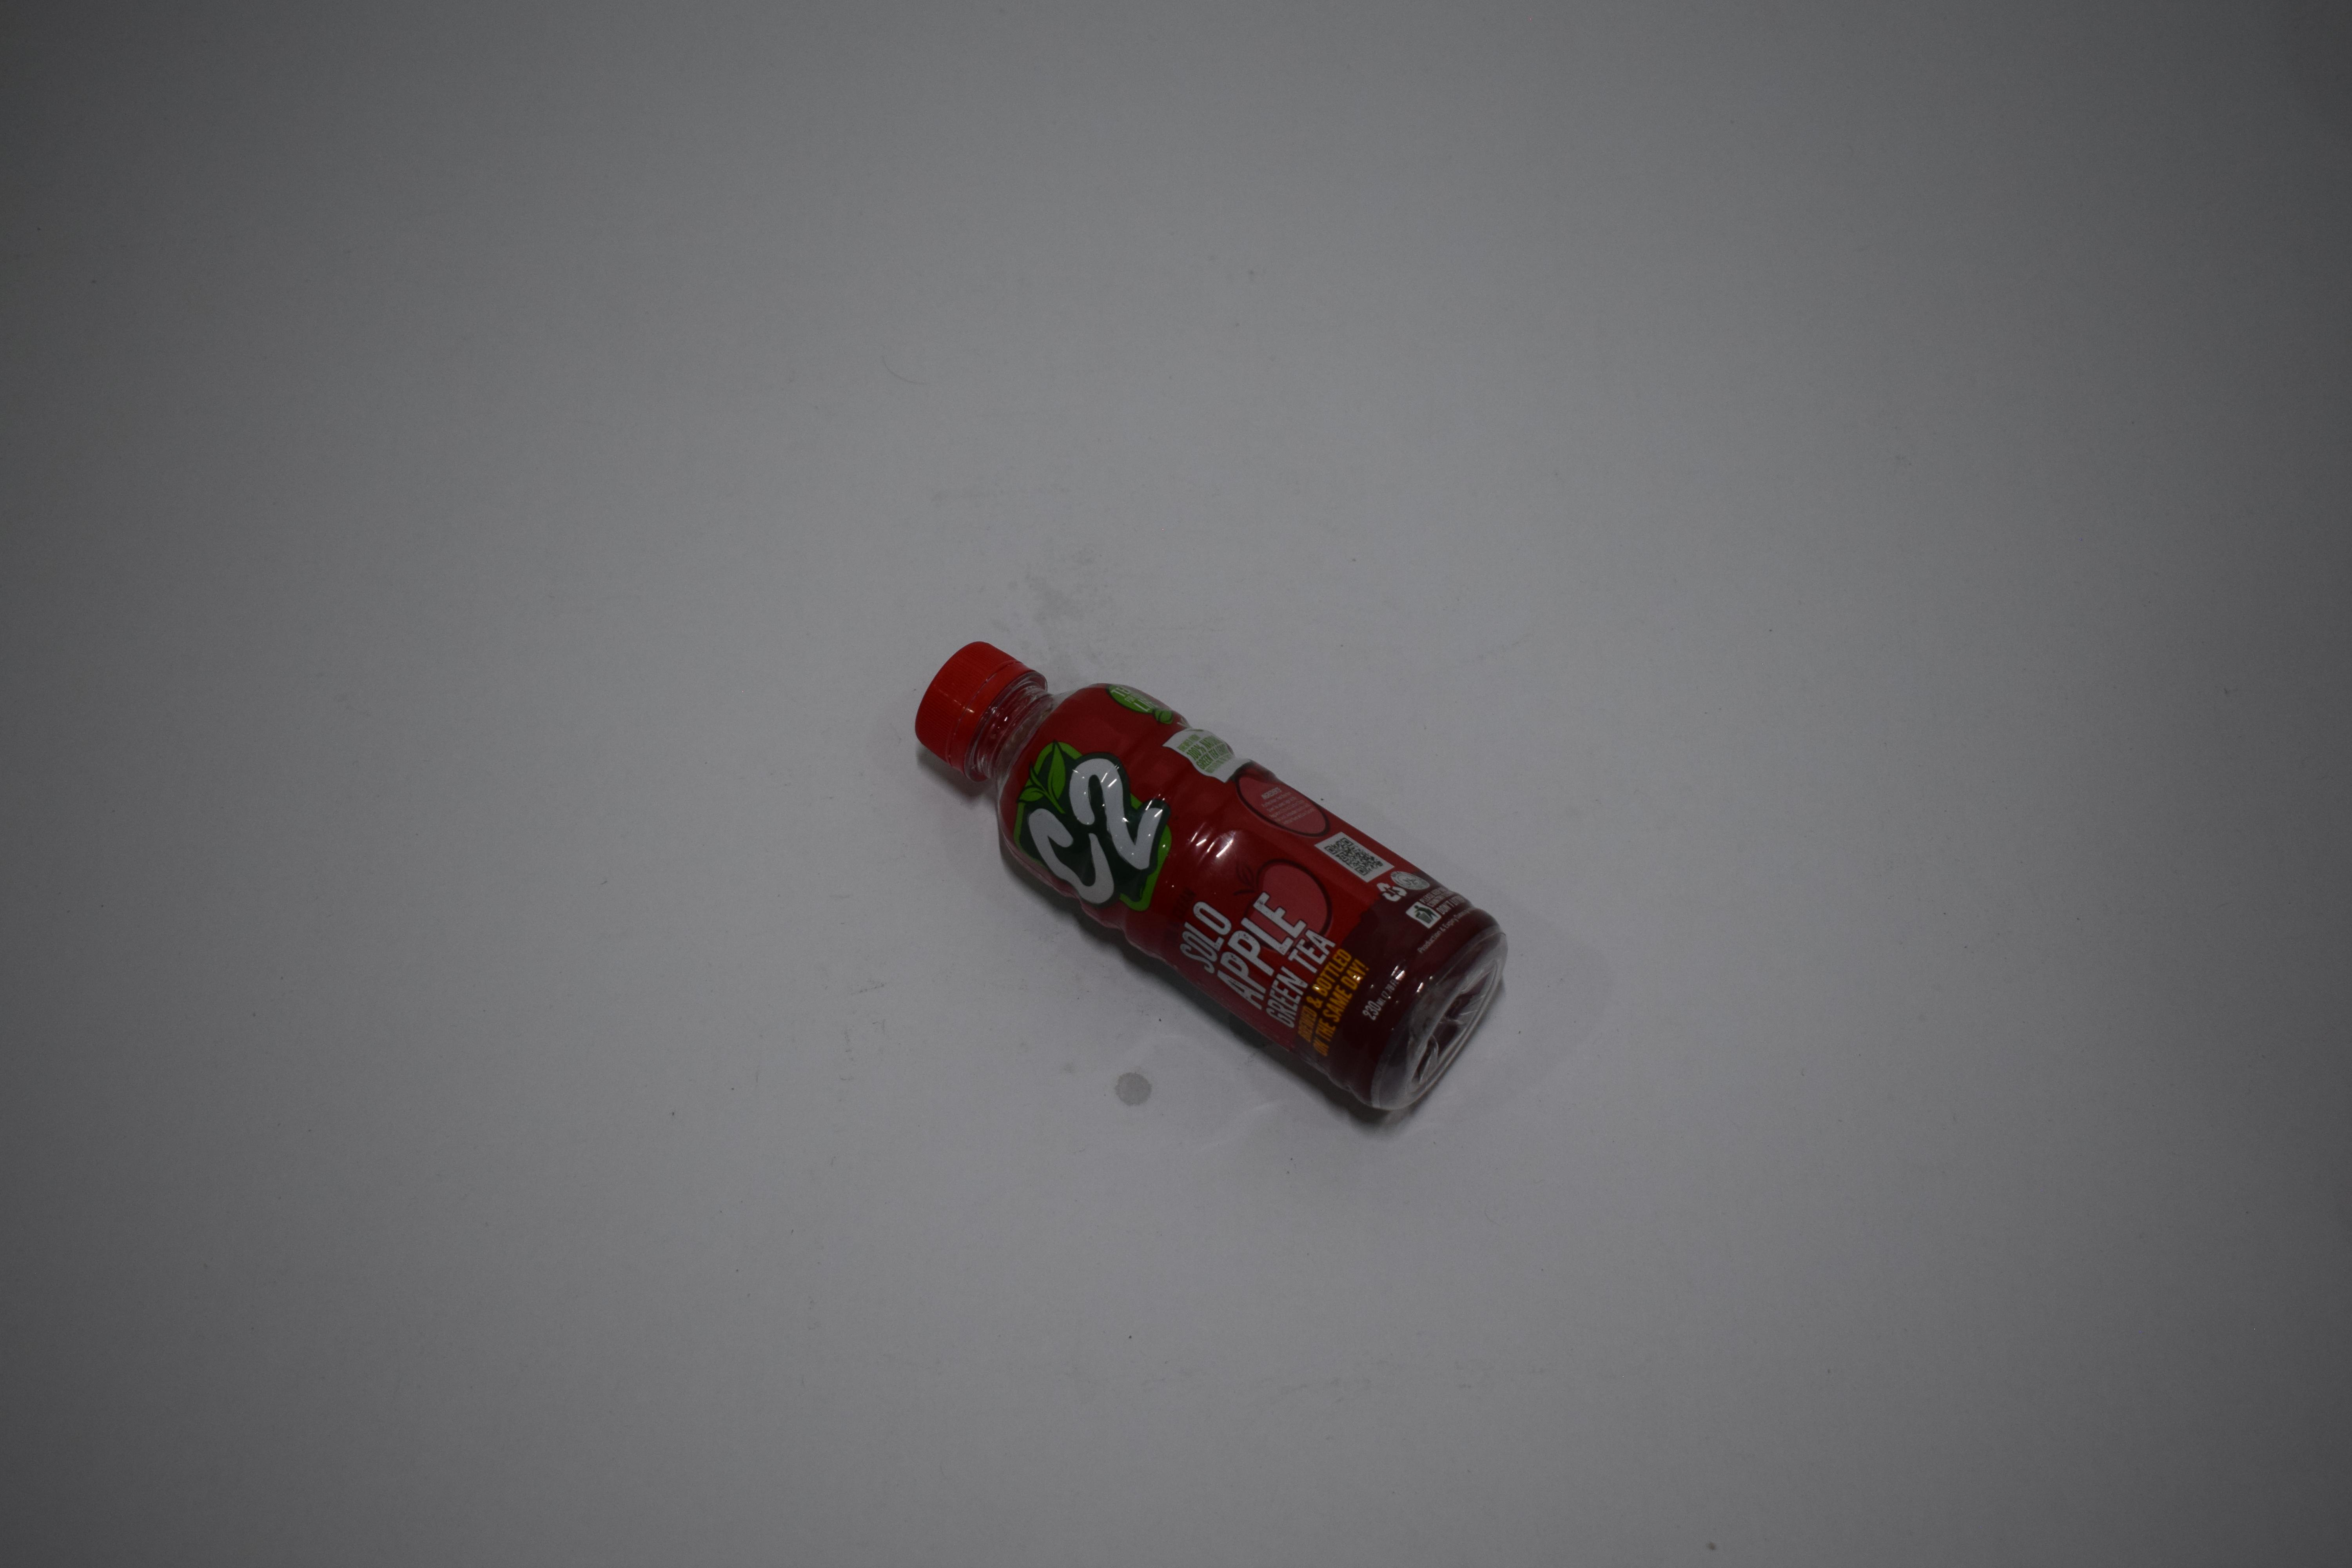bottle: (0, 0, 266, 348)
